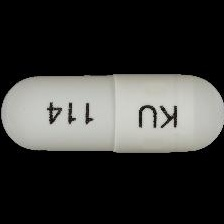62175-114: (0, 0, 224, 224)
